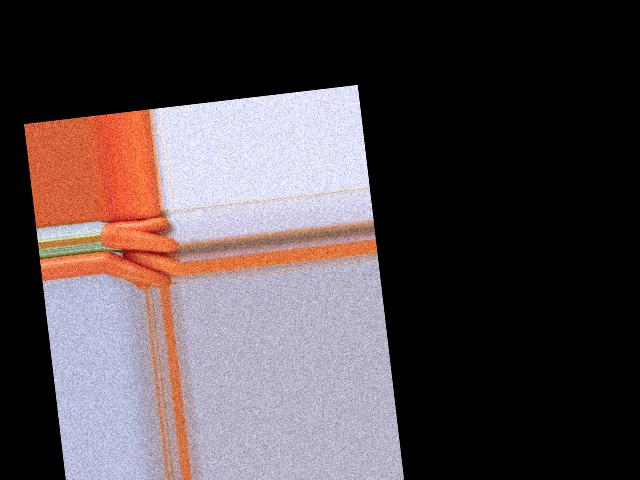carrot: (101, 210, 171, 237)
